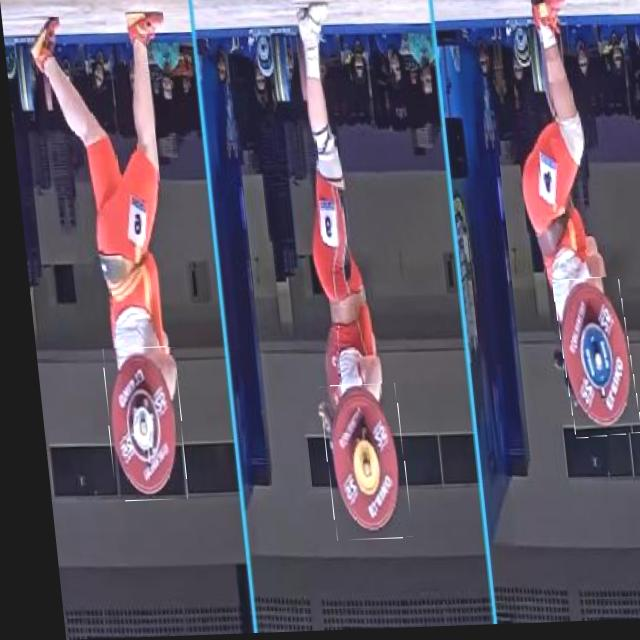barbell: (312, 386, 401, 543), (549, 282, 632, 443), (94, 348, 180, 503)
